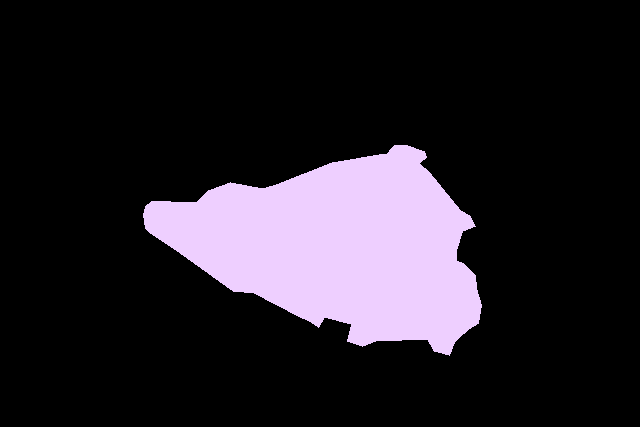Train: (143, 145, 481, 355)
